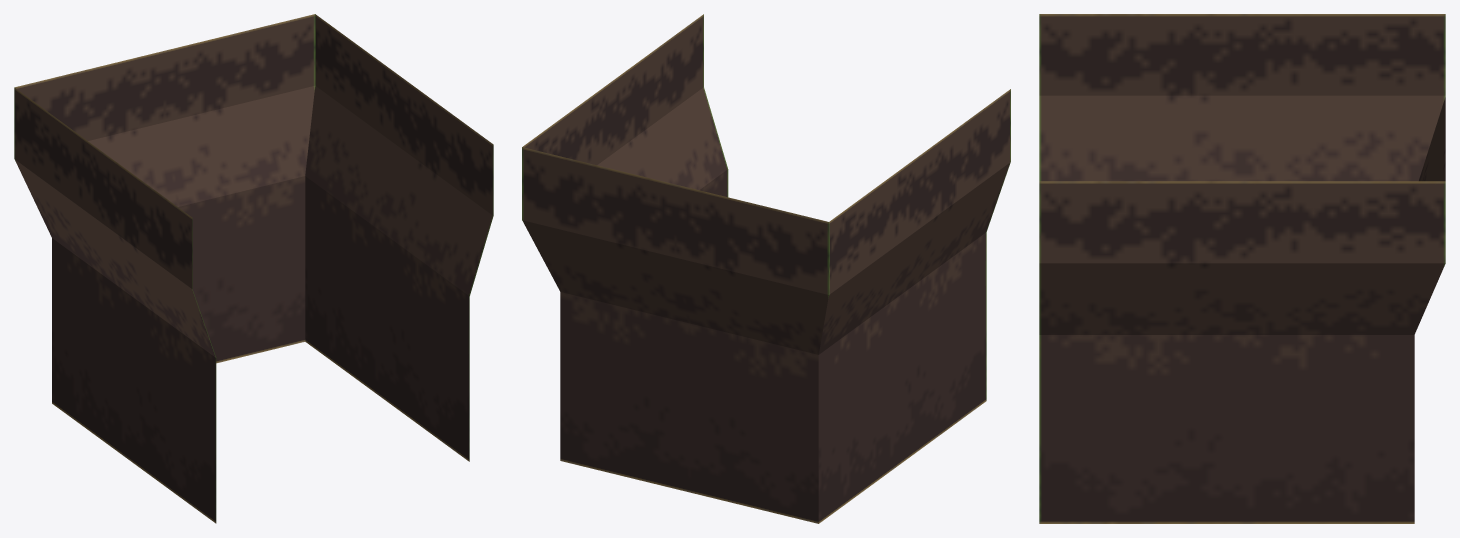
File: Base_End.obj
The picture shows the model from 3 angles, left to right: view 1: azimuth 30°, elevation 25°; view 2: azimuth 150°, elevation 25°; view 3: azimuth 270°, elevation 25°; orthographic projection. The views are drawn at different scales.
Parts seen in each view (by area): view 1: Base_End_Cube.007; view 2: Base_End_Cube.007; view 3: Base_End_Cube.007.
Boxes of the visible parts, box(x1,y1,x2,y2) form: Base_End_Cube.007: box(14, 14, 493, 523); Base_End_Cube.007: box(522, 14, 1010, 523); Base_End_Cube.007: box(1039, 14, 1445, 523).
Bounding box in the file's own units: 1.9 × 1.88 × 1.95.
